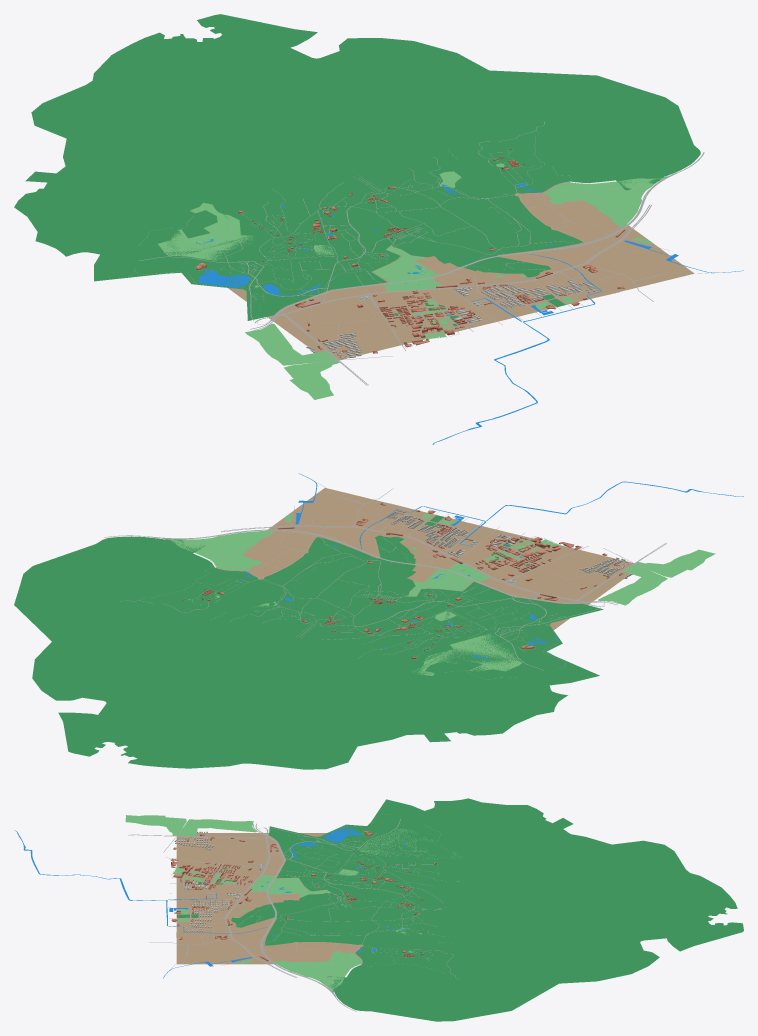
The model's file is buildings.glb.
3 renders of one model, top to bottom at view 1: azimuth 30°, elevation 25°; view 2: azimuth 150°, elevation 25°; view 3: azimuth 270°, elevation 25°, orthographic. The views are drawn at different scales.
Visible parts, largest first — view 1: forest/16455205, bbox_ground, 钟山体育运动公园, 月牙湖公园 (×2), 中山植物园, 下马坊遗址公园; view 2: forest/16455205, bbox_ground, 钟山体育运动公园, 月牙湖公园 (×2), 中山植物园, 下马坊遗址公园, water/1525414565; view 3: forest/16455205, bbox_ground, 钟山体育运动公园, 月牙湖公园 (×2), 下马坊遗址公园, 中山植物园, water/1525414565.
Part boxes in pixels (box(x1,y1,x2,y2)): forest/16455205: box(14, 14, 700, 320); bbox_ground: box(228, 181, 694, 359); 钟山体育运动公园: box(544, 177, 664, 227); 月牙湖公园 (×2): box(245, 323, 339, 399); 中山植物园: box(158, 203, 253, 260); 下马坊遗址公园: box(372, 245, 441, 291); forest/16455205: box(14, 535, 603, 769); bbox_ground: box(216, 488, 633, 629); 钟山体育运动公园: box(167, 531, 273, 570); 月牙湖公园 (×2): box(598, 549, 715, 605); 中山植物园: box(412, 634, 521, 675); 下马坊遗址公园: box(407, 562, 489, 596); water/1525414565: box(359, 481, 743, 548); forest/16455205: box(231, 798, 743, 1021); bbox_ground: box(176, 833, 363, 964); 钟山体育运动公园: box(273, 952, 361, 991); 月牙湖公园 (×2): box(125, 815, 256, 836); 下马坊遗址公园: box(250, 875, 329, 897); 中山植物园: box(359, 829, 461, 860); water/1525414565: box(14, 830, 267, 933).
Size of the model in its own units: 6500 by 32.02 by 8982.
